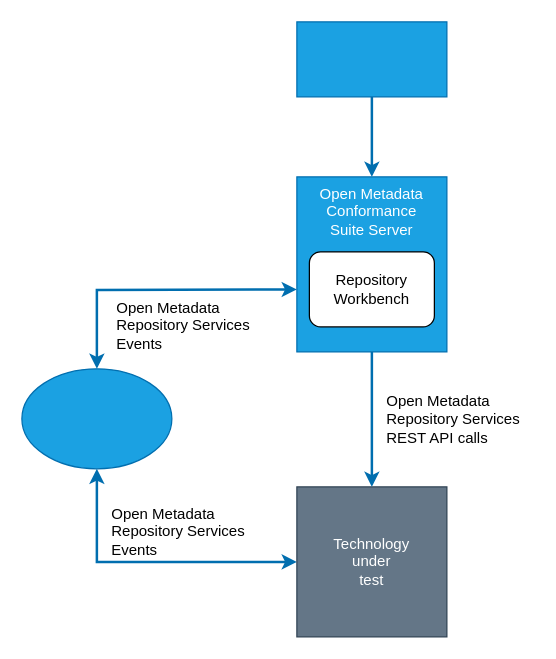
This 556x659 diagram has some shape labels left out. Here are the shapes that lost their labels. From the top down, the centre of each, then its label:
the point at 371,59: Open Metadata Conformance Suite Client
the point at 96,418: Cohort Event Topic
